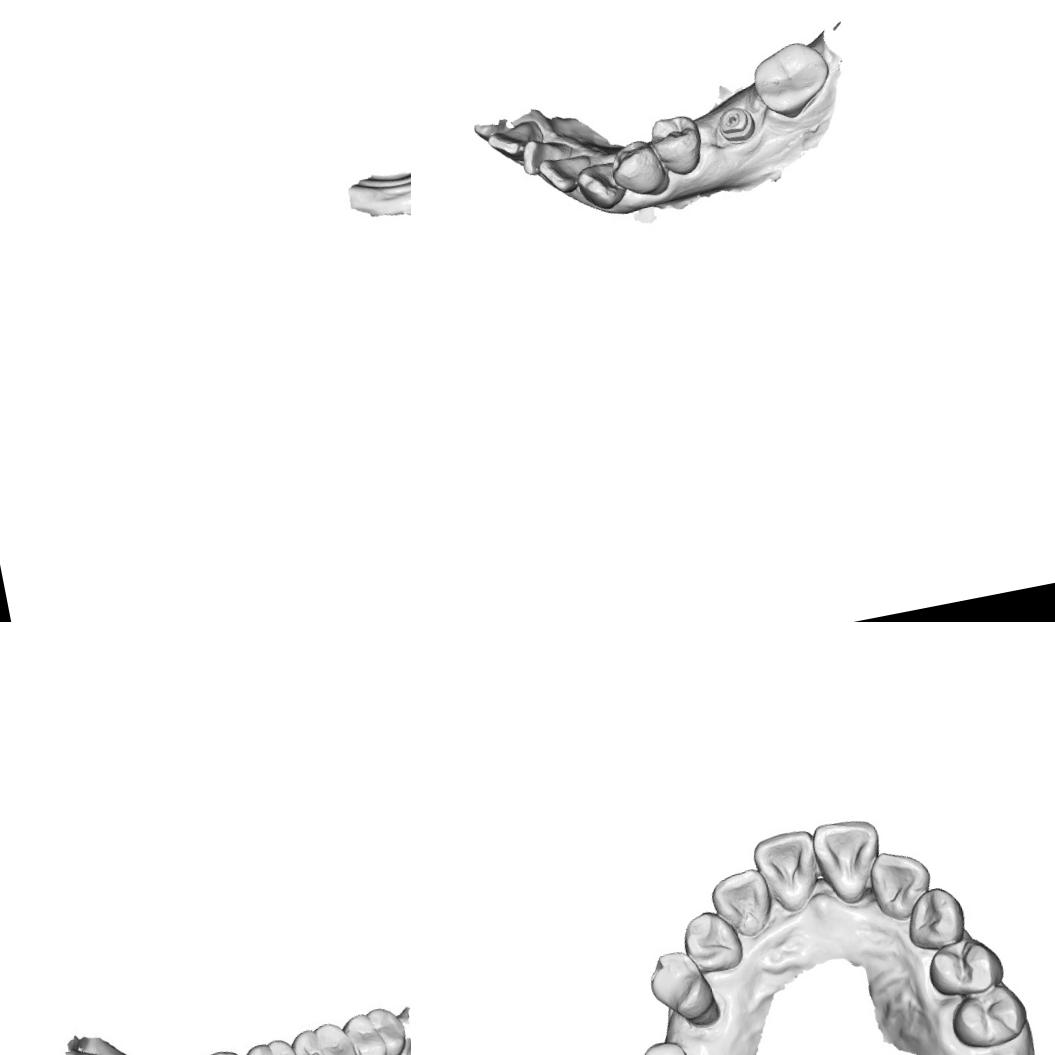canine: (677, 903, 746, 978), (900, 882, 968, 951), (572, 157, 626, 215)
implant_minus: (712, 100, 758, 146)
incisor: (748, 822, 827, 917), (808, 813, 889, 905), (865, 844, 938, 925), (707, 861, 776, 942), (534, 149, 598, 199), (517, 130, 579, 179), (483, 118, 538, 160), (54, 1038, 113, 1055)
molar: (745, 34, 838, 124), (341, 1000, 411, 1055), (287, 1016, 361, 1055), (616, 1033, 710, 1055)
premolar: (943, 980, 1030, 1053), (922, 931, 1006, 999), (640, 940, 711, 1014), (644, 109, 710, 182), (604, 135, 668, 200), (240, 1034, 307, 1055)
